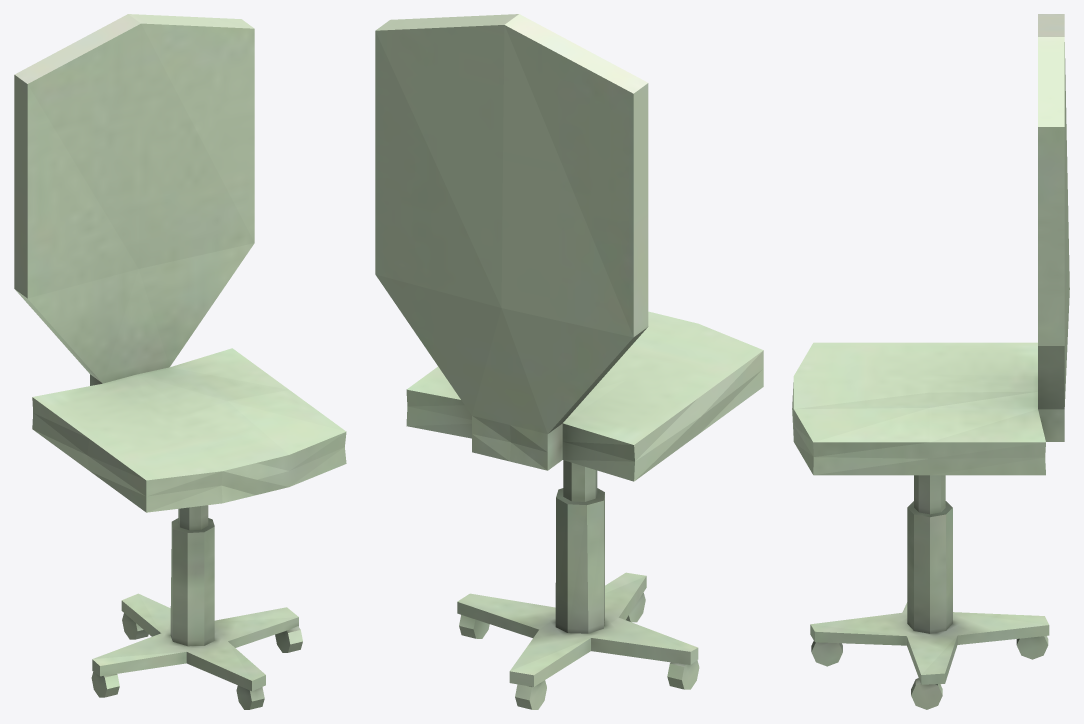
The model's file is Chair.fbx.
3 views of the same model, side by side, from view 1: azimuth 30°, elevation 25°; view 2: azimuth 150°, elevation 25°; view 3: azimuth 270°, elevation 25° (orthographic). The views are drawn at different scales.
Parts seen in each view (by area): view 1: Chair; view 2: Chair; view 3: Chair.
Boxes of the visible parts, x1=… form: Chair: x1=14, y1=14, x2=346, y2=709; Chair: x1=375, y1=14, x2=763, y2=709; Chair: x1=792, y1=14, x2=1069, y2=709.
Size of the model in its own units: 82.29 by 204 by 79.34.
Materials: 1 (1 with a texture image).
